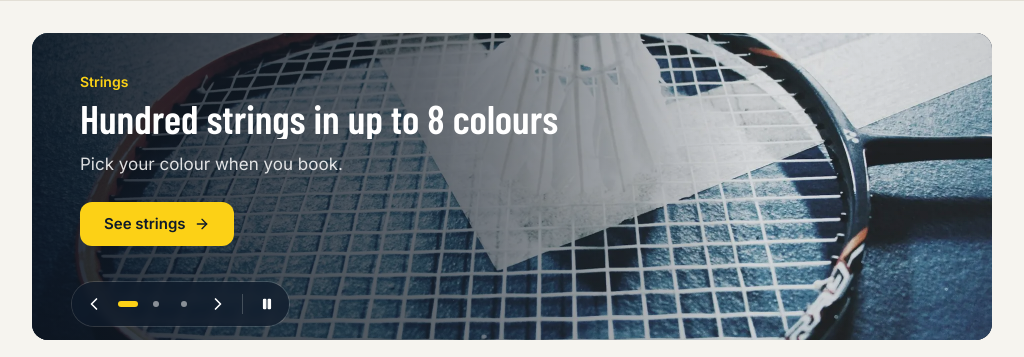
Test: OffersSection › runs promo banners as a slideshow with their label, text and button
Expected: the headings read "Hundred strings in up to 8 colours", in this order, [80, 98, 558, 139]
Expected: the text "Strings" is shown, [80, 73, 128, 90]
Step 1. Click the button "See strings" → (157,224), box [80, 202, 234, 246]
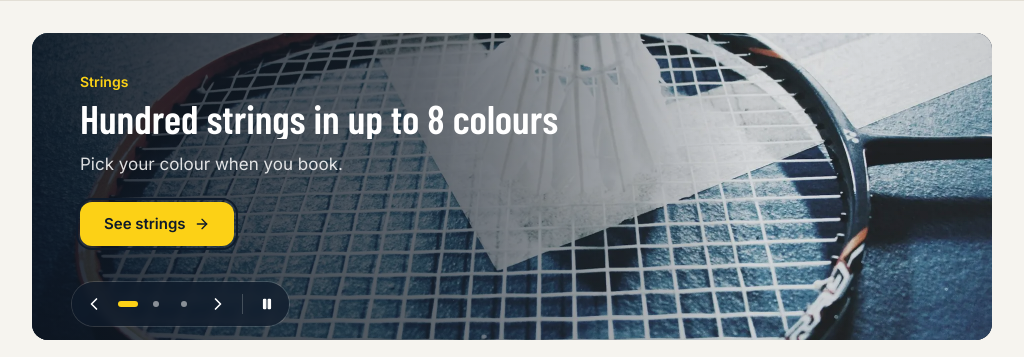
Step 2. Click the button named "Next slide" → (218,304), box [198, 284, 238, 324]
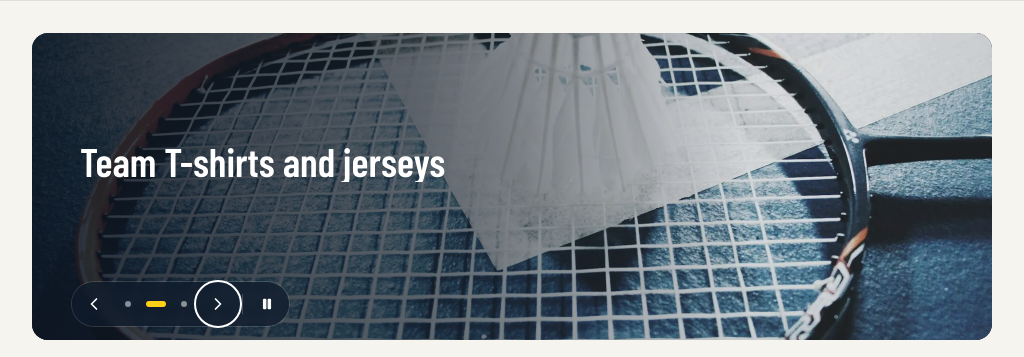
Expected: the button named "Pause slideshow" is shown, [247, 284, 287, 324]
Now the heading reads "Team T-shirts and jerseys", box [80, 137, 445, 185]
